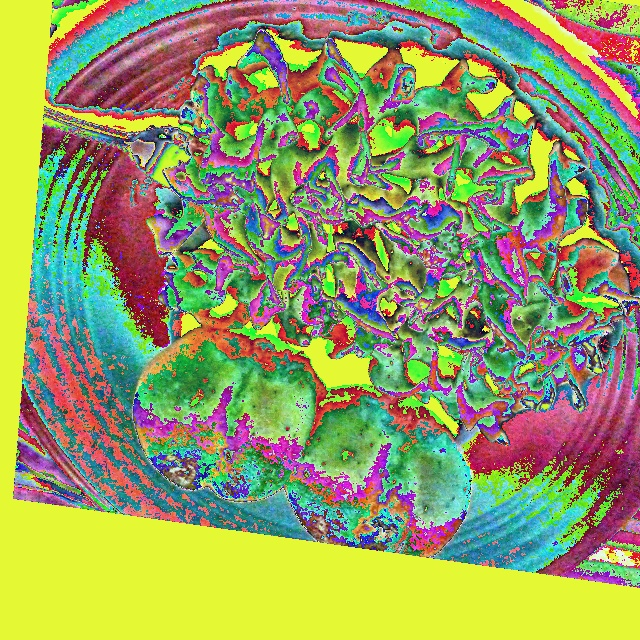background: (132, 28, 639, 557)
